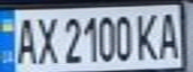0: (115, 11, 136, 62), (97, 11, 118, 62)
1: (81, 12, 100, 63)
2: (60, 12, 81, 65)
A: (154, 8, 184, 61), (9, 14, 39, 65)
K: (133, 10, 160, 62)
X: (33, 12, 60, 65)
